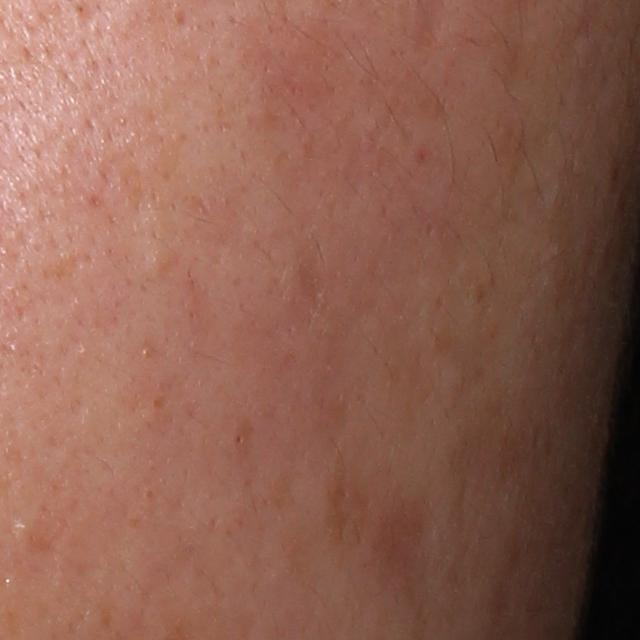comedo: (141, 243, 176, 276), (231, 431, 245, 448)
